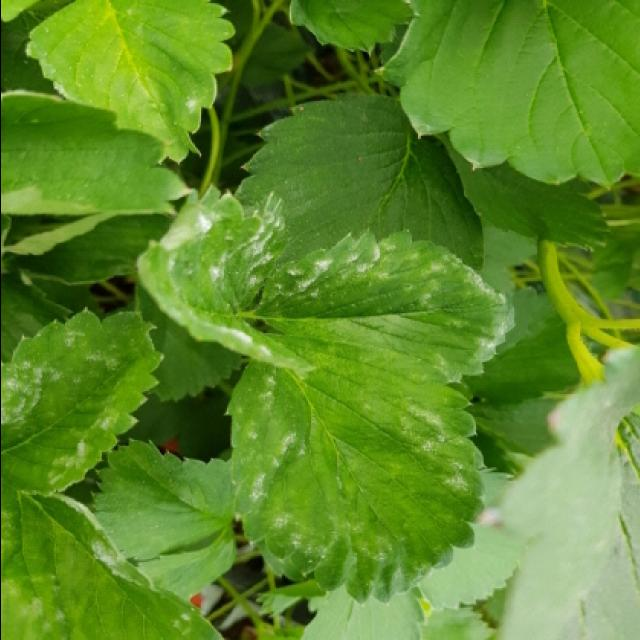Powdery Mildew Leaf: (225, 334, 485, 606), (250, 224, 514, 380), (24, 0, 234, 165), (136, 183, 318, 372), (2, 486, 228, 638), (2, 308, 163, 498)
